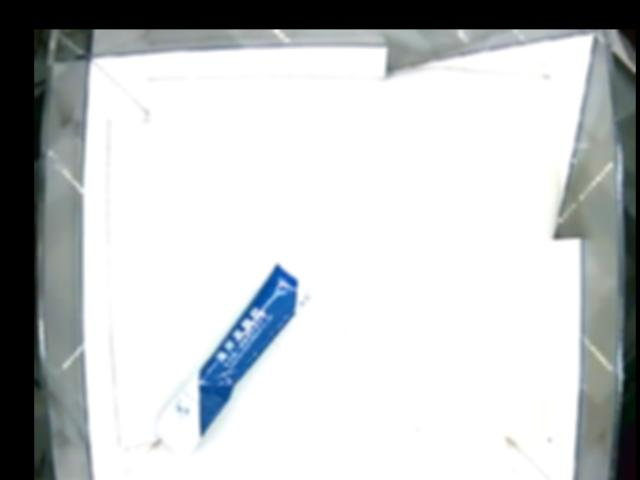Medicine: (155, 255, 319, 459)
